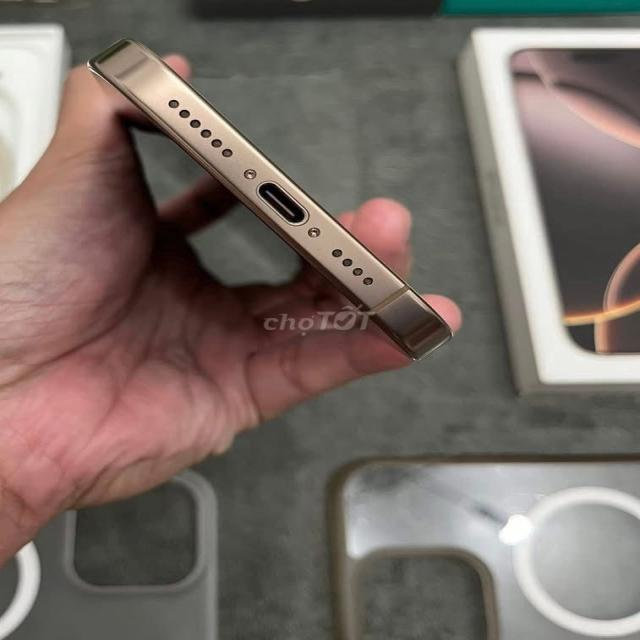gen_16: (86, 21, 462, 355)
